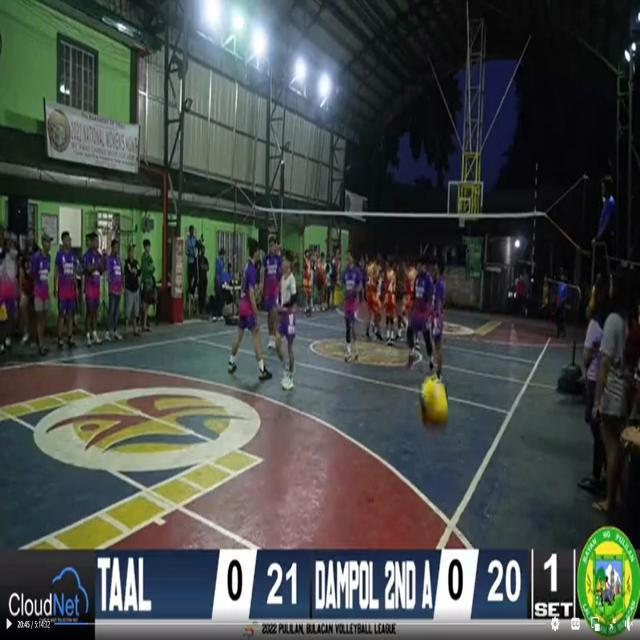volleyball: (417, 374, 450, 432)
